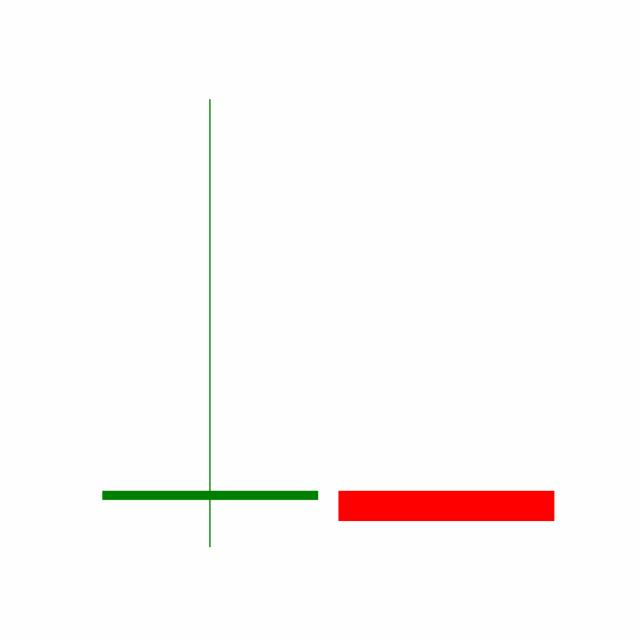Marubozu: (327, 490, 565, 521)
